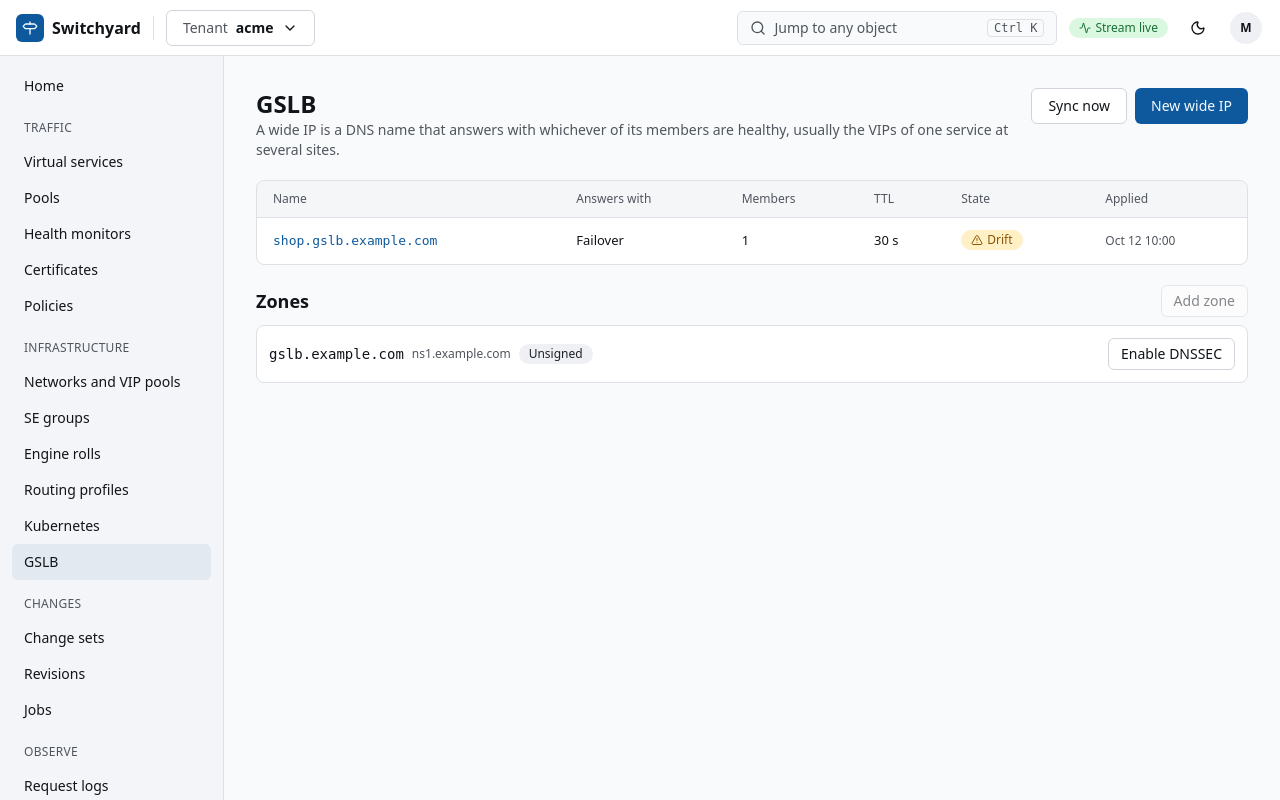
Scenario: gslb › lists wide IPs with their state and syncs
Expected: the button "shop.gslb.example.com" is shown, [273, 231, 437, 250]
Expected: the text "Drift" is shown, [961, 230, 1023, 250]
Click the button "Sync now" at (1079, 106), box [1031, 88, 1127, 124]
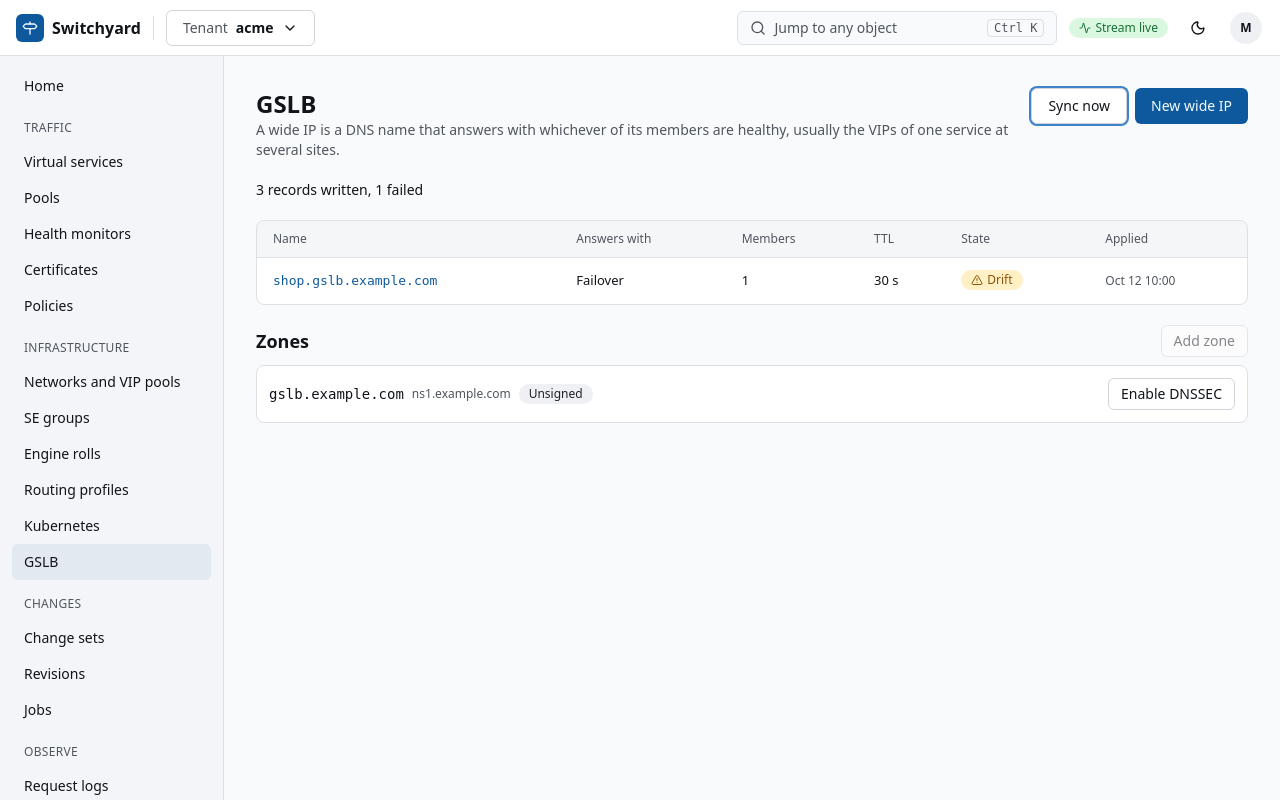
Now the text "3 records written, 1 failed" is shown, box [256, 180, 423, 199]
